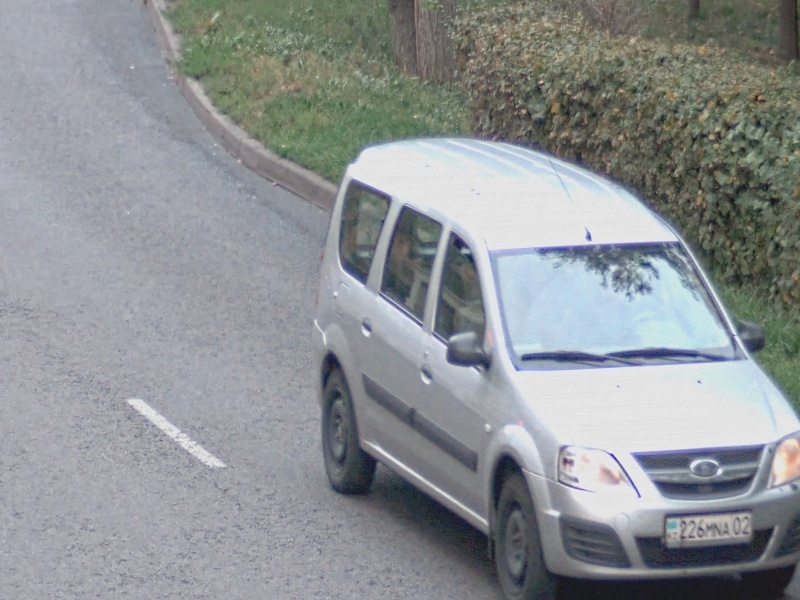plate: (662, 507, 756, 553)
